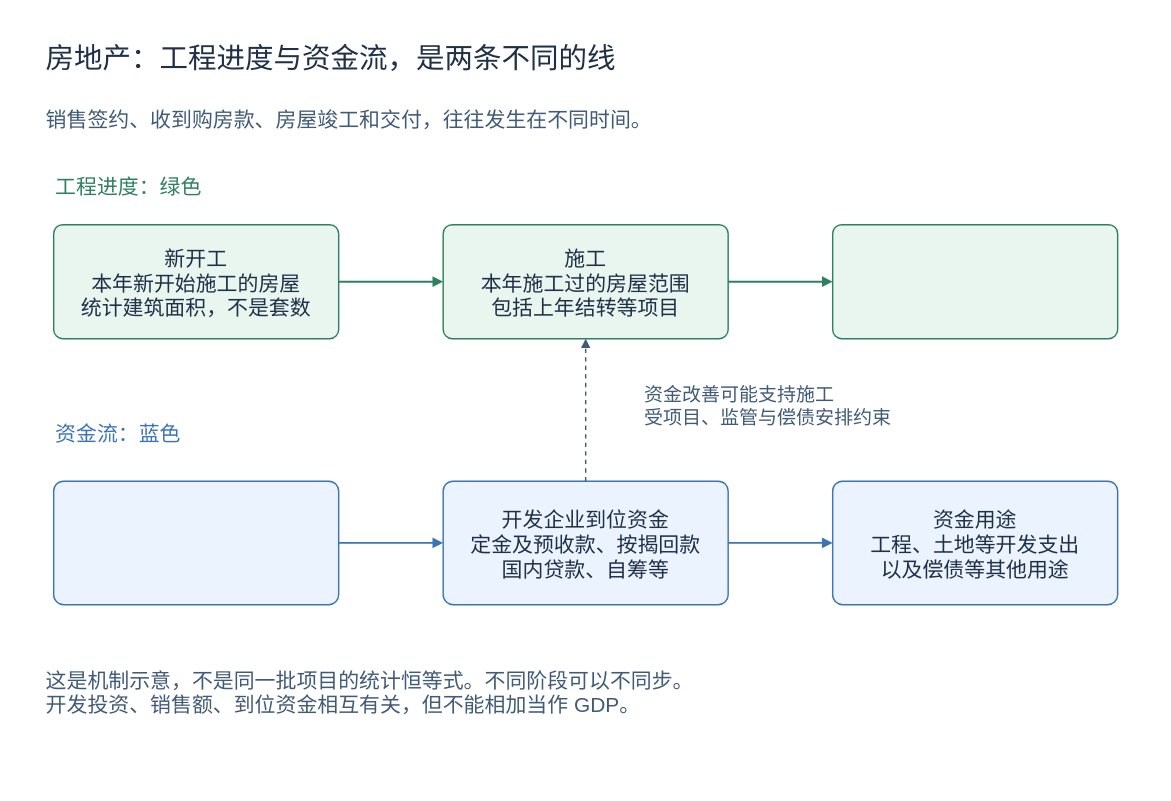
Some shapes in this 1171 by 801 pixel diagram are drawn without their labels. Here are the shapes that lost their labels. From the top down, the box of each, then its label:
(832, 224, 1118, 339): 竣工 → 交付使用 达到竣工标准再交付 竣工统计不等于交房统计
(53, 480, 339, 605): 购房与销售签约 期房可以在竣工前销售 销售额不等于已收现金
